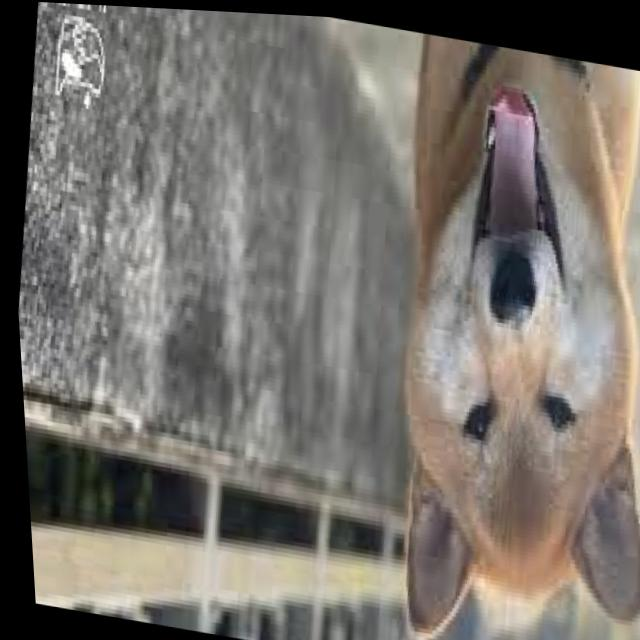Shiba-Inu: (348, 25, 640, 640)
